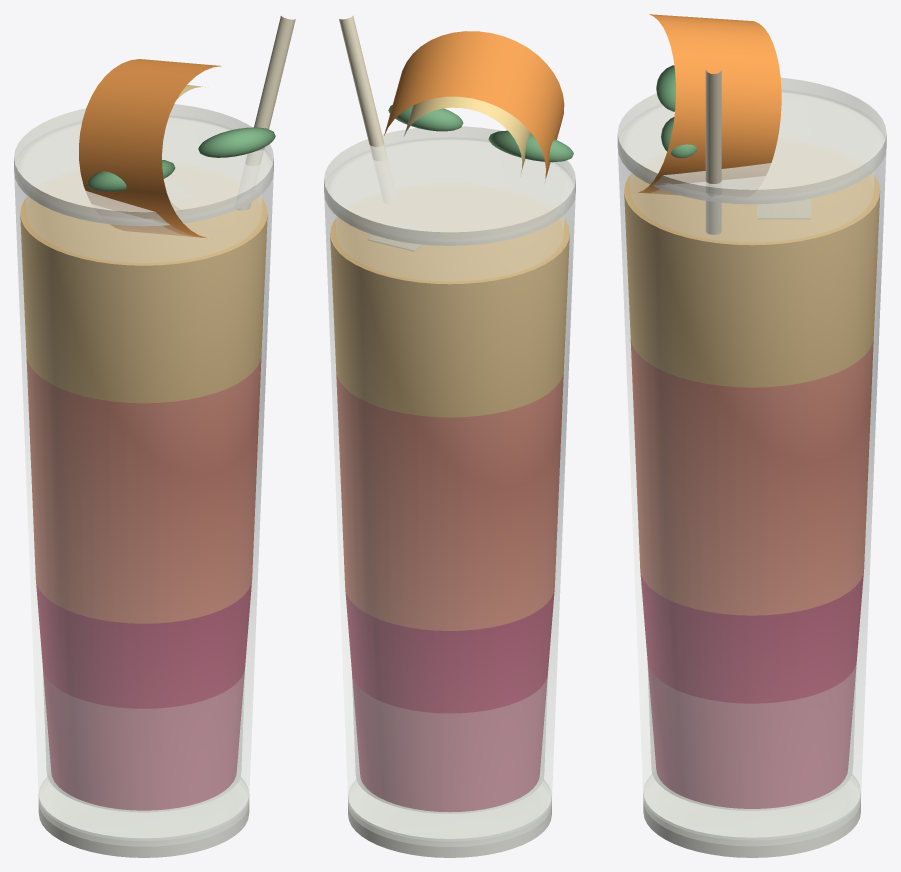
File: cocktail-soleil.glb
3 renders of one model, left to right at view 1: azimuth 30°, elevation 25°; view 2: azimuth 150°, elevation 25°; view 3: azimuth 270°, elevation 25°, orthographic. The views are drawn at different scales.
Visible parts, largest first — view 1: Verre haut, Cocktail (×3), Bord du verre, Rondelle d’orange, Bague du pied, Pied du verre, Feuille de menthe (×2), Paille; view 2: Verre haut, Cocktail (×3), Bord du verre, Rondelle d’orange, Bague du pied, Pied du verre, Feuille de menthe (×2), Paille, Chair d’orange; view 3: Verre haut, Cocktail (×3), Bord du verre, Rondelle d’orange, Bague du pied, Pied du verre, Paille, Feuille de menthe (×2), Glaçon.
Part boxes in pixels (x1,y1,x2,y2): Verre haut: [14, 115, 273, 846]; Cocktail (×3): [20, 196, 267, 810]; Bord du verre: [14, 104, 273, 226]; Rondelle d’orange: [79, 59, 221, 238]; Bague du pied: [38, 774, 249, 857]; Pied du verre: [38, 779, 249, 857]; Feuille de menthe (×2): [87, 127, 275, 191]; Paille: [237, 16, 295, 210]; Verre haut: [324, 137, 575, 846]; Cocktail (×3): [330, 216, 569, 811]; Bord du verre: [324, 126, 575, 245]; Rondelle d’orange: [384, 31, 564, 181]; Bague du pied: [348, 776, 551, 857]; Pied du verre: [348, 782, 551, 857]; Feuille de menthe (×2): [388, 105, 573, 162]; Paille: [339, 15, 387, 161]; Chair d’orange: [404, 96, 530, 172]; Verre haut: [618, 90, 886, 845]; Cocktail (×3): [624, 173, 880, 808]; Bord du verre: [617, 77, 886, 204]; Rondelle d’orange: [634, 14, 781, 195]; Bague du pied: [643, 770, 860, 857]; Pied du verre: [643, 776, 860, 857]; Paille: [705, 69, 721, 234]; Feuille de menthe (×2): [656, 65, 697, 158]; Glaçon: [757, 199, 810, 219].
Bounding box in the file's own units: 0.0853 × 0.26 × 0.0823.
